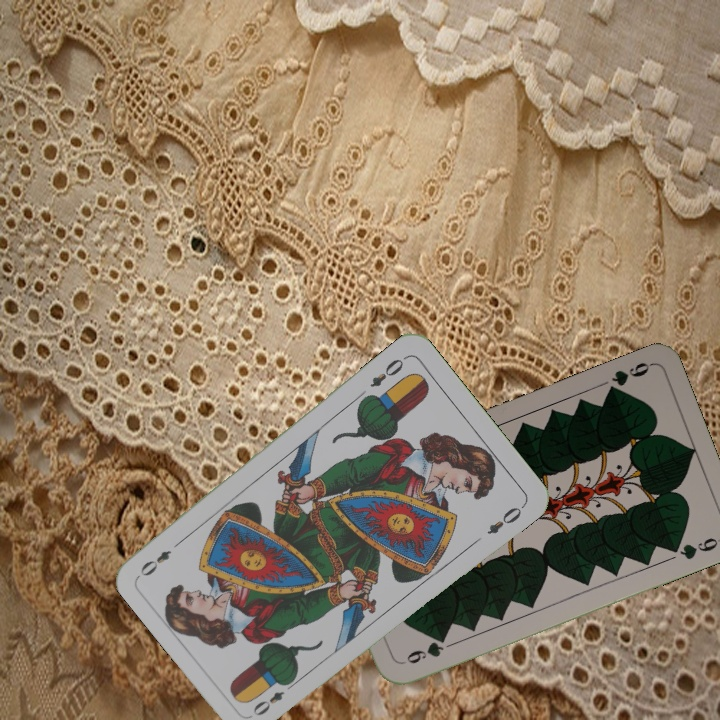EO: (248, 676, 299, 719), (366, 352, 409, 390)
G9: (602, 358, 655, 398), (402, 632, 449, 667)
